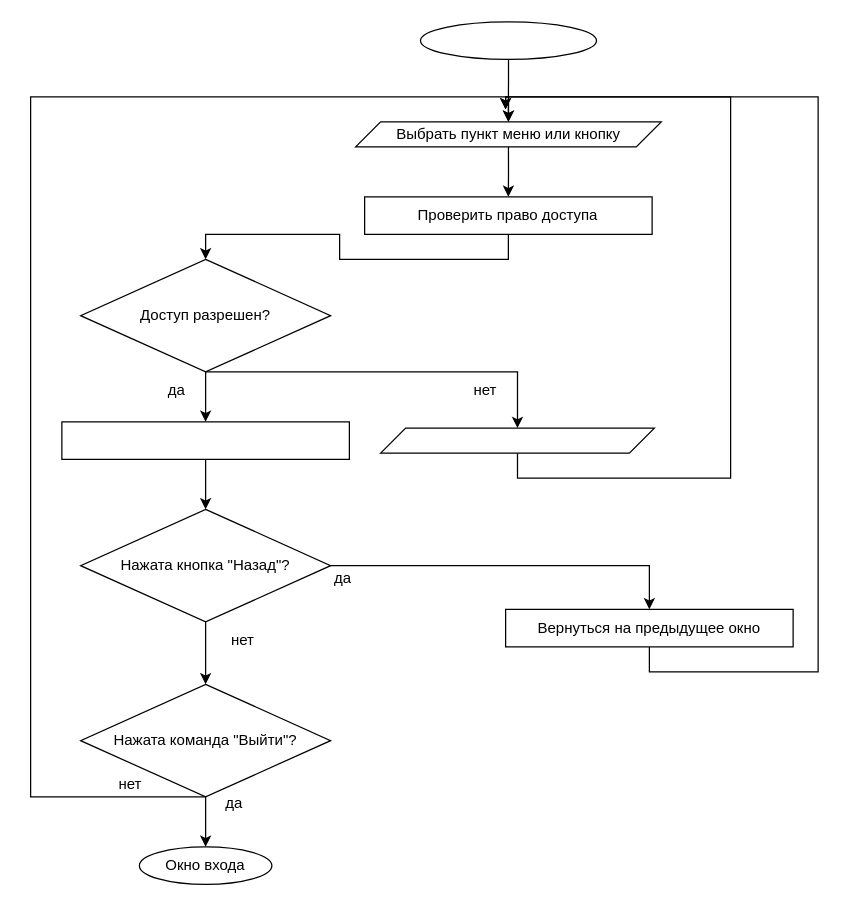
Some shapes in this 850 by 906 pixel diagram are drawn without their labels. Here are the shapes that lost their labels. From the top down, the centre of each, then its label:
the point at 507,40: Пользователь в каталоге
the point at 205,440: Открыть нужное окно с корректным заголовком
the point at 516,440: Сообщение о запрете действия
